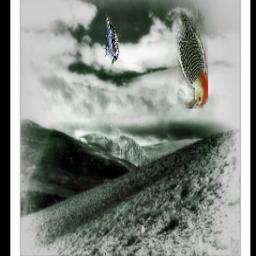Woodpecker: (163, 0, 209, 110), (101, 12, 121, 67)
